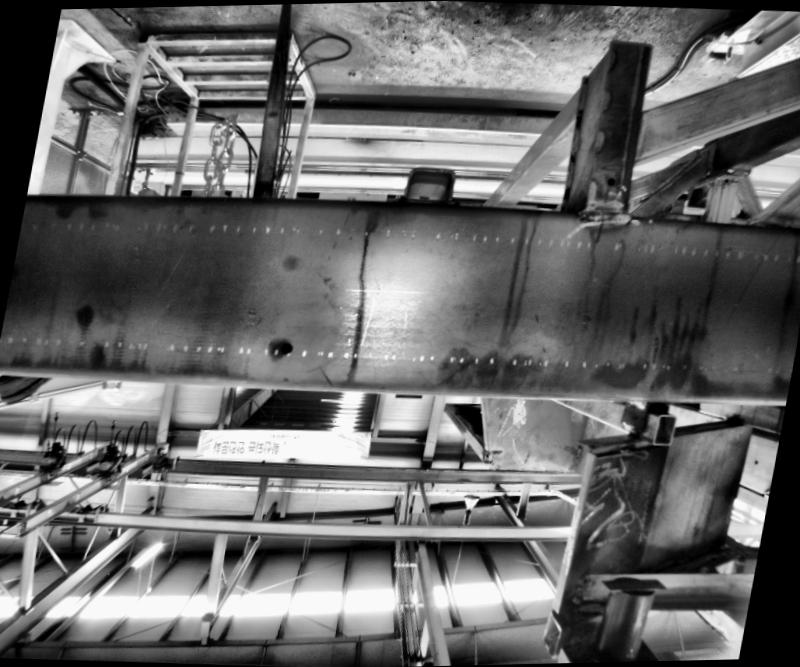bracket: (388, 155, 470, 203)
hole: (279, 340, 292, 352), (604, 176, 615, 185)
welding: (578, 193, 630, 216)
